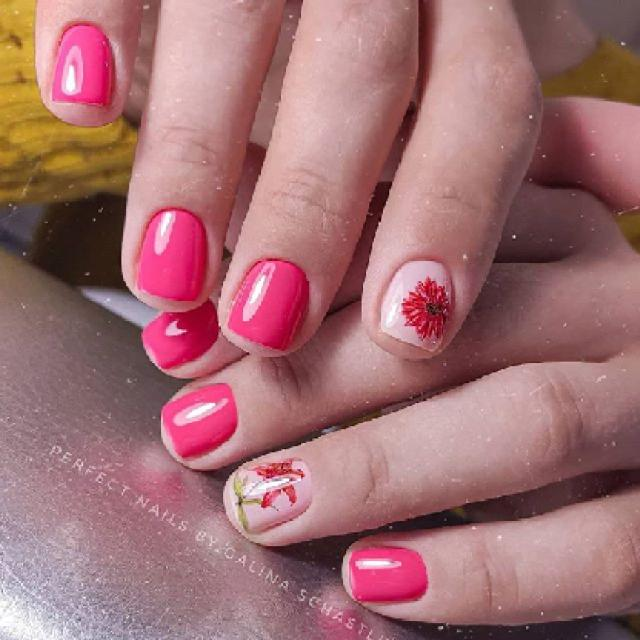Nail: (229, 259, 309, 351), (380, 260, 451, 349), (138, 209, 205, 301), (230, 461, 311, 533), (162, 385, 239, 459), (144, 300, 220, 368), (52, 25, 114, 101), (350, 548, 428, 601)
